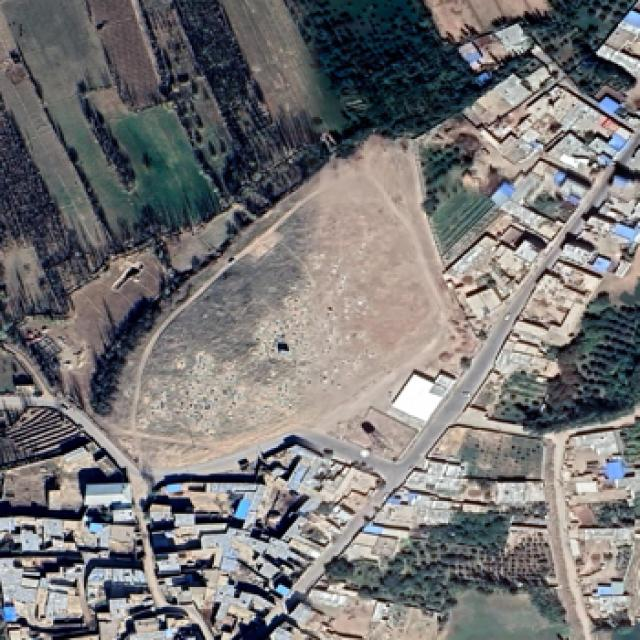artifacts: (468, 65, 626, 202), (136, 486, 246, 629), (3, 511, 110, 635), (256, 448, 376, 554), (411, 445, 548, 516), (147, 465, 265, 528)
vegetation: (165, 3, 324, 202), (344, 508, 555, 622), (503, 297, 640, 430), (422, 136, 506, 256), (85, 291, 164, 417)
